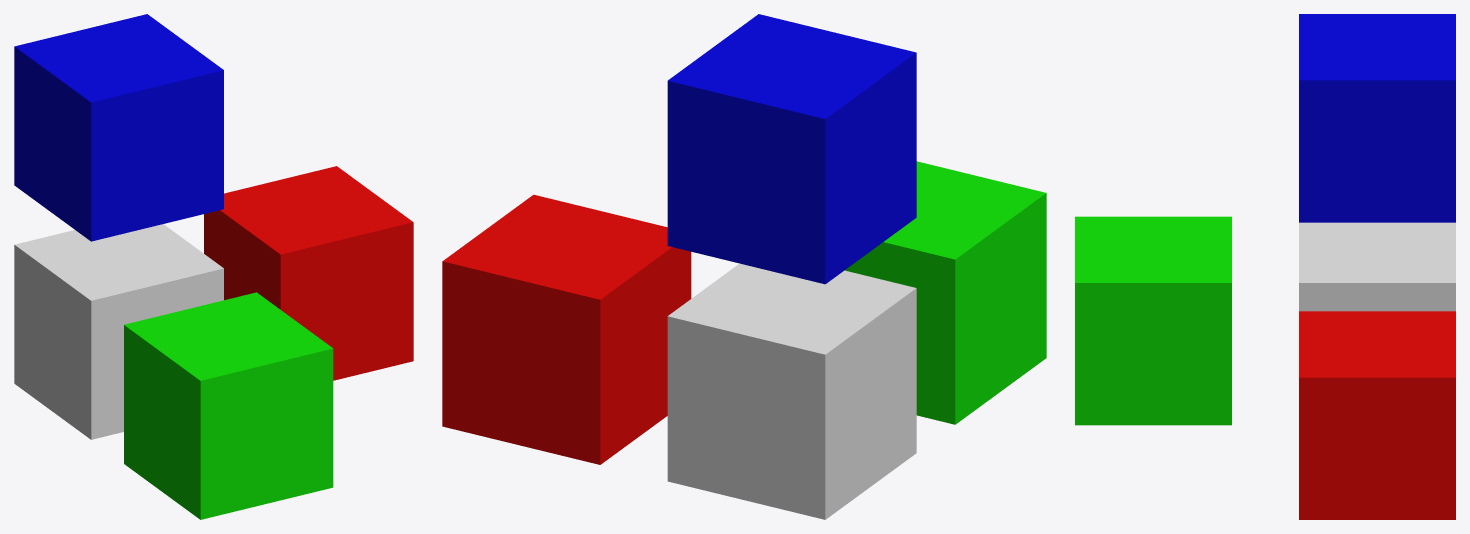
The model's file is coords.gltf.
3 views of the same model, side by side, from view 1: azimuth 30°, elevation 25°; view 2: azimuth 150°, elevation 25°; view 3: azimuth 270°, elevation 25° (orthographic). The views are drawn at different scales.
Visible parts, largest first — view 1: Cube.002, Cube.003, Cube.001, Cube; view 2: Cube.003, Cube, Cube.001, Cube.002; view 3: Cube.002, Cube.001, Cube.003, Cube.
Part boxes in pixels (<box>): Cube.002: <box>124,292,333,519</box>; Cube.003: <box>14,14,223,241</box>; Cube.001: <box>204,166,413,380</box>; Cube: <box>14,224,223,439</box>; Cube.003: <box>667,14,916,284</box>; Cube: <box>667,263,916,519</box>; Cube.001: <box>442,194,691,464</box>; Cube.002: <box>845,161,1046,424</box>; Cube.002: <box>1075,216,1231,425</box>; Cube.001: <box>1299,311,1455,519</box>; Cube.003: <box>1299,14,1455,222</box>; Cube: <box>1299,222,1455,311</box>.
Bounding box in the file's own units: 1.7 × 1.7 × 1.7.
